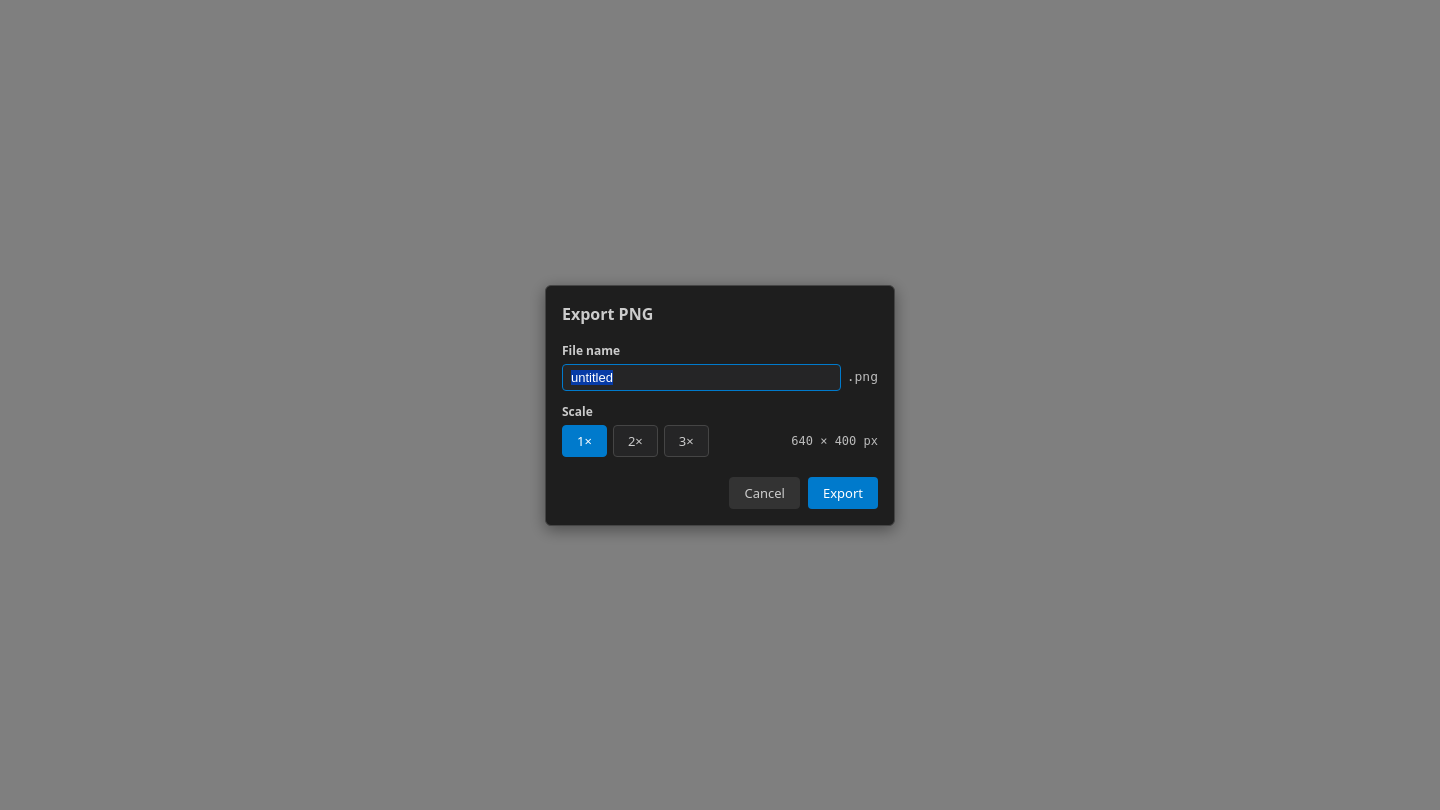
Test case: PngExportDialog › shows output dimensions for the selected scale
Expected: the text with test id "png-export-dimensions" reads "640 × 400 px", [791,432,878,450]
What coordinates should you click on to do the following:
click the radio button with test id "png-export-scale-3x"
I would click on:
 (686, 440)
Its box is [664,424,709,456].
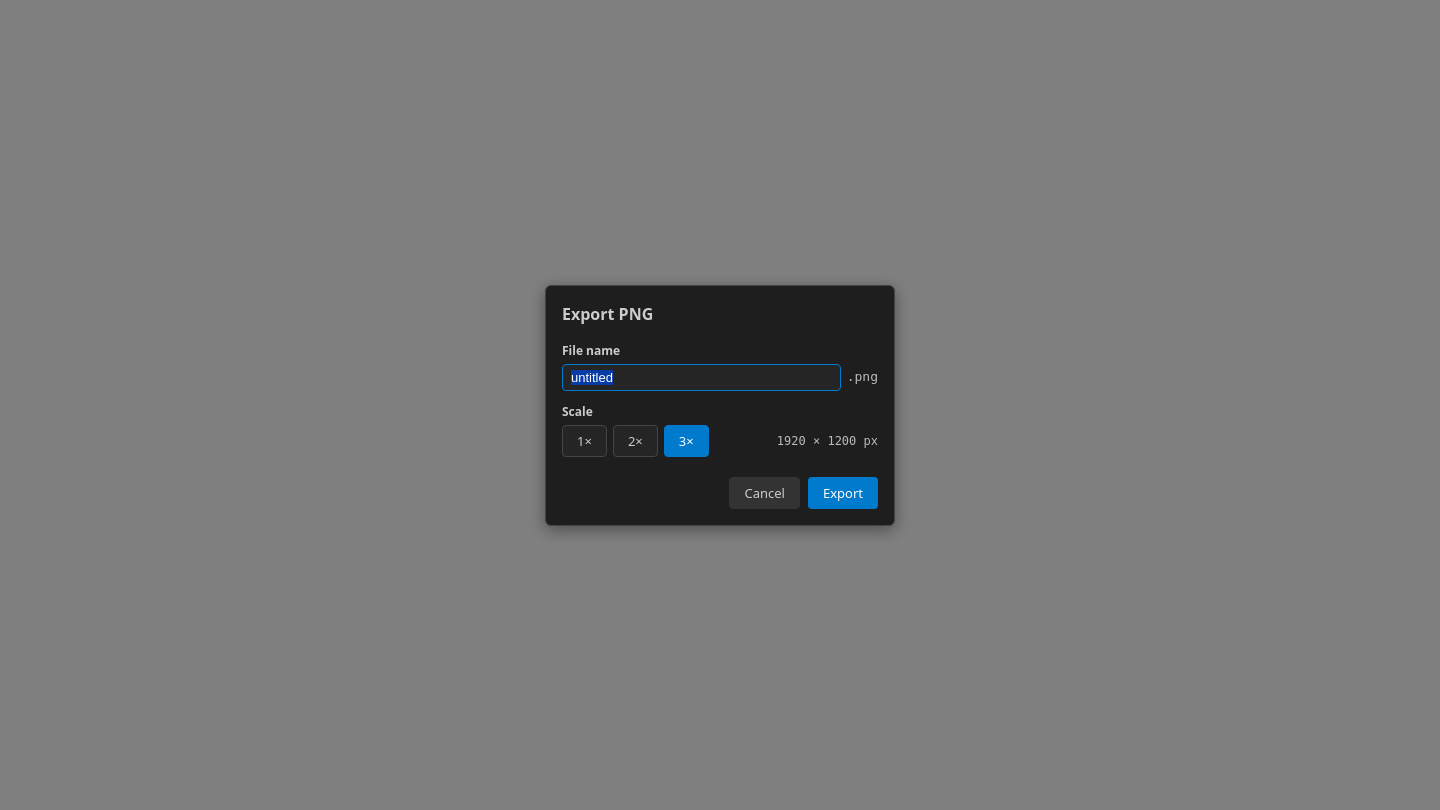
Now the text with test id "png-export-dimensions" reads "1920 × 1200 px", box [777,432,878,450]
